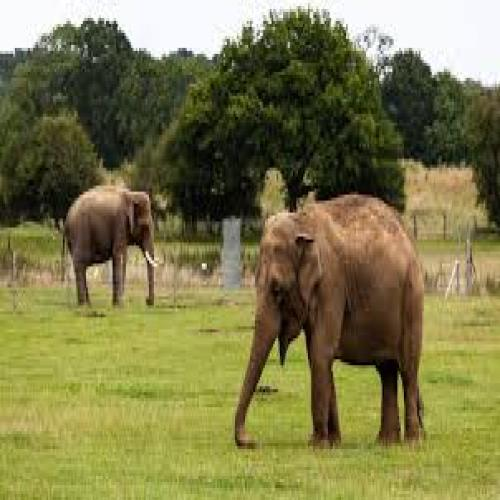asian_elephant-endangered: (233, 199, 425, 448), (61, 186, 164, 305)
